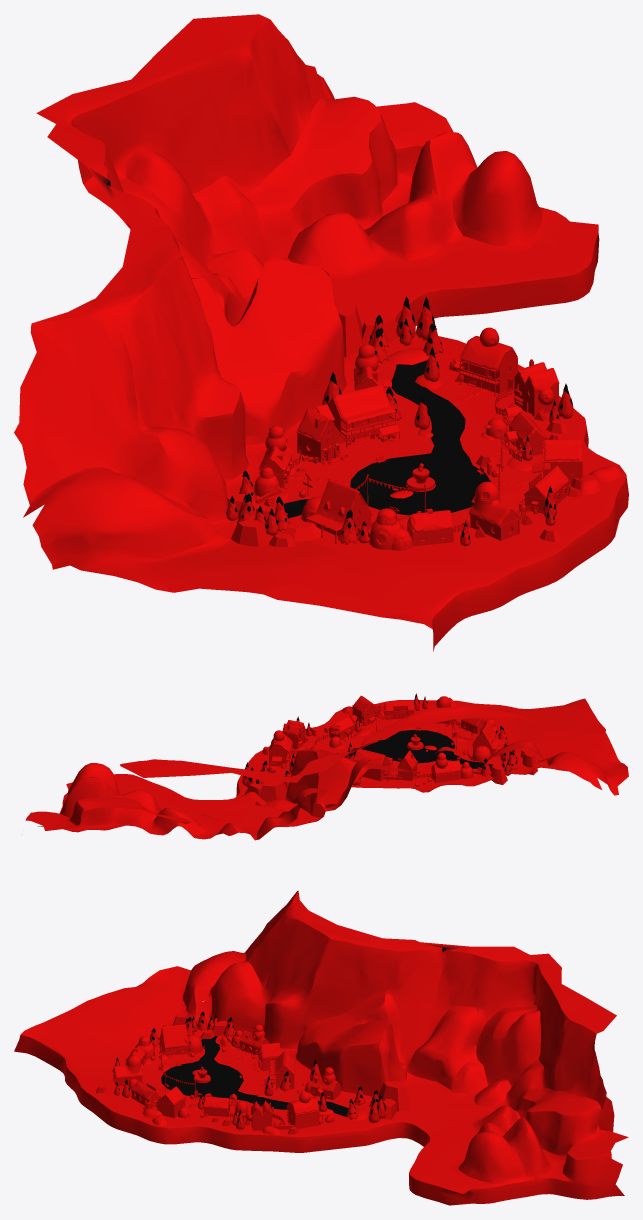
File: Individual_IceBreakerAlley_02.glb
3 views of the same model, one above another, from view 1: azimuth 30°, elevation 25°; view 2: azimuth 150°, elevation 25°; view 3: azimuth 270°, elevation 25° (orthographic). The views are drawn at different scales.
Parts seen in each view (by area): view 1: pasted__pasted__Berg1, pasted__Building_Platform2Story, pasted__Building_House_FlatRoofIgloo, pasted__Building_TallRoof, pasted__Building_2Roofs, pasted__Building_House_1IglooStack, pasted__Building_CoffeeShop, polySurface4, pasted__Building_1StoryHouse, pasted__Building_3WayIgloo, pasted__Building_House_3Windows, pasted__Building_Platformed1Story (+3 smaller); view 2: pasted__pasted__Berg1, pasted__Building_Platform2Story, pasted__Building_House_FlatRoofIgloo, pasted__Building_House_2IglooStack1, polySurface4, pasted__Building_TallRoof, pasted__Building_House_3Windows, pasted__Object_IceRock11, pasted__Building_2Roofs, pasted__Building_Platformed1Story, pasted__Building_CoffeeShop, pasted__Building_1StoryHouse (+2 smaller); view 3: pasted__pasted__Berg1, pasted__Building_House_FlatRoofIgloo, pasted__Building_TallRoof, pasted__Building_Platform2Story, pasted__Building_House_2IglooStack, pasted__Object_IceRock11, pasted__Building_House_1IglooStack, pasted__Building_2Roofs, polySurface4, pasted__Building_Platformed1Story, pasted__Building_House_2IglooStack1, pasted__Building_House_3Windows (+1 smaller).
Boxes of the visible parts, box(x1,y1,x2,y2) form: pasted__pasted__Berg1: box(14, 14, 628, 651); pasted__Building_Platform2Story: box(316, 385, 400, 447); pasted__Building_House_FlatRoofIgloo: box(459, 327, 517, 395); pasted__Building_TallRoof: box(305, 478, 372, 543); pasted__Building_2Roofs: box(508, 359, 559, 416); pasted__Building_House_1IglooStack: box(468, 481, 522, 540); pasted__Building_CoffeeShop: box(296, 409, 340, 462); polySurface4: box(532, 439, 582, 484); pasted__Building_1StoryHouse: box(407, 508, 453, 546); pasted__Building_3WayIgloo: box(369, 508, 412, 550); pasted__Building_House_3Windows: box(524, 465, 569, 513); pasted__Building_Platformed1Story: box(503, 406, 547, 455); pasted__pasted__Berg1: box(25, 698, 628, 840); pasted__Building_Platform2Story: box(353, 749, 392, 781); pasted__Building_House_FlatRoofIgloo: box(268, 730, 292, 768); pasted__Building_House_2IglooStack1: box(431, 752, 461, 783); polySurface4: box(352, 695, 380, 725); pasted__Building_TallRoof: box(472, 721, 506, 756); pasted__Building_House_3Windows: box(382, 700, 415, 719); pasted__Object_IceRock11: box(255, 781, 287, 805); pasted__Building_2Roofs: box(282, 720, 305, 749); pasted__Building_Platformed1Story: box(328, 716, 354, 739); pasted__Building_CoffeeShop: box(397, 750, 417, 780); pasted__Building_1StoryHouse: box(461, 717, 484, 733); pasted__pasted__Berg1: box(14, 890, 628, 1205); pasted__Building_House_FlatRoofIgloo: box(287, 1091, 323, 1128); pasted__Building_TallRoof: box(157, 1024, 188, 1055); pasted__Building_Platform2Story: box(264, 1051, 294, 1088); pasted__Building_House_2IglooStack: box(310, 1067, 340, 1099); pasted__Object_IceRock11: box(378, 1081, 410, 1111); pasted__Building_House_1IglooStack: box(112, 1055, 143, 1086); pasted__Building_2Roofs: box(245, 1100, 273, 1130); polySurface4: box(156, 1086, 185, 1118); pasted__Building_Platformed1Story: box(203, 1093, 237, 1116); pasted__Building_House_2IglooStack1: box(239, 1024, 269, 1055); pasted__Building_House_3Windows: box(131, 1081, 160, 1107).
Size of the model in its own units: 125 by 32.42 by 149.
